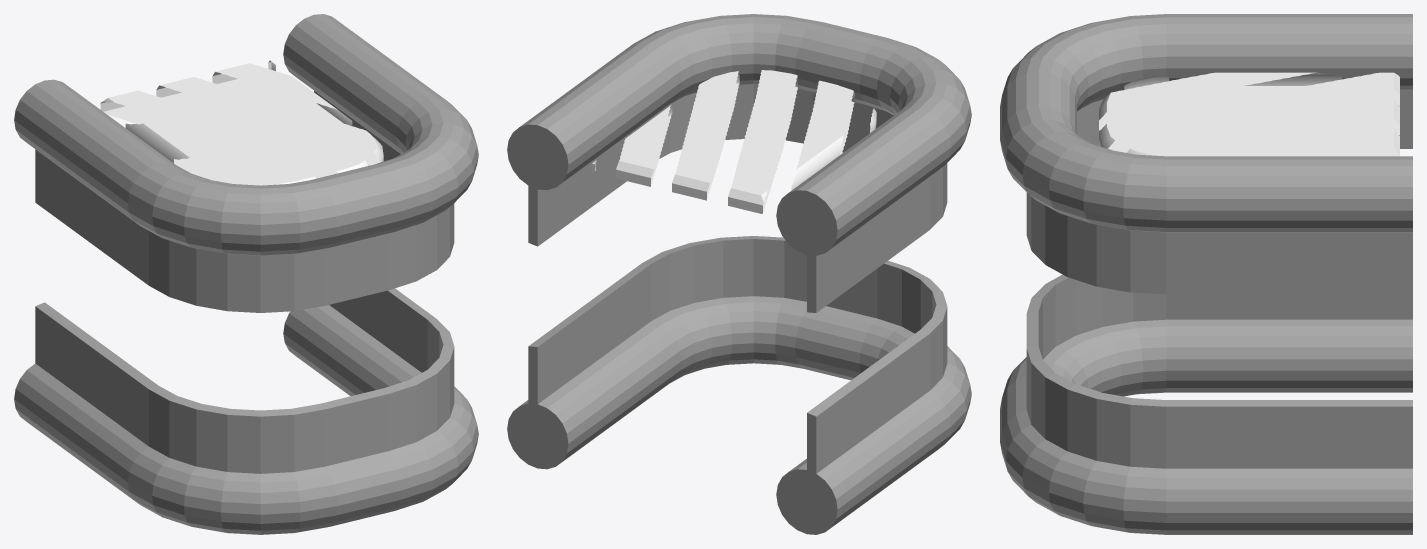
Rendered from pong_left.fbx.
The picture shows the model from 3 angles, left to right: view 1: azimuth 30°, elevation 25°; view 2: azimuth 150°, elevation 25°; view 3: azimuth 270°, elevation 25°; orthographic projection. The views are drawn at different scales.
Parts seen in each view (by area): view 1: pong_top, pong_middle; view 2: pong_top, pong_middle; view 3: pong_top, pong_middle.
Boxes of the visible parts, x1,y1,x2,y2 form: pong_top: (14,14,478,534); pong_middle: (100,60,383,185); pong_top: (507,14,971,534); pong_middle: (591,70,876,213); pong_top: (1000,14,1412,534); pong_middle: (1099,72,1399,156).
Size of the model in its own units: 100 by 99.64 by 100.
